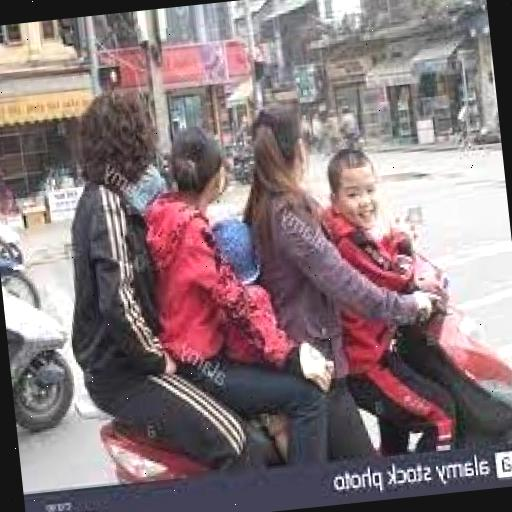no helmet: (237, 68, 338, 238)
triple riding: (49, 37, 512, 490)
